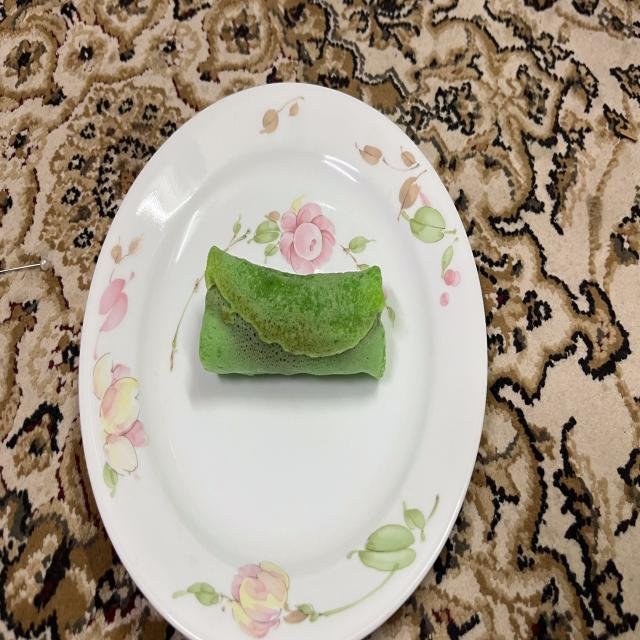Kuih-Ketayap: (199, 247, 386, 378)
